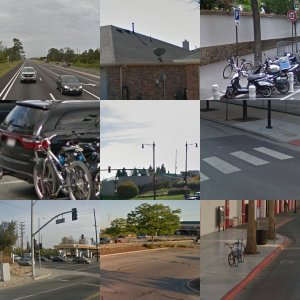棕櫚樹: (226, 136, 252, 197)
樓梯: (144, 24, 179, 55)
汽車: (23, 136, 96, 192)
行人穿越道: (131, 253, 198, 300), (14, 279, 93, 300), (250, 67, 299, 96), (209, 59, 260, 79), (135, 234, 186, 252)
